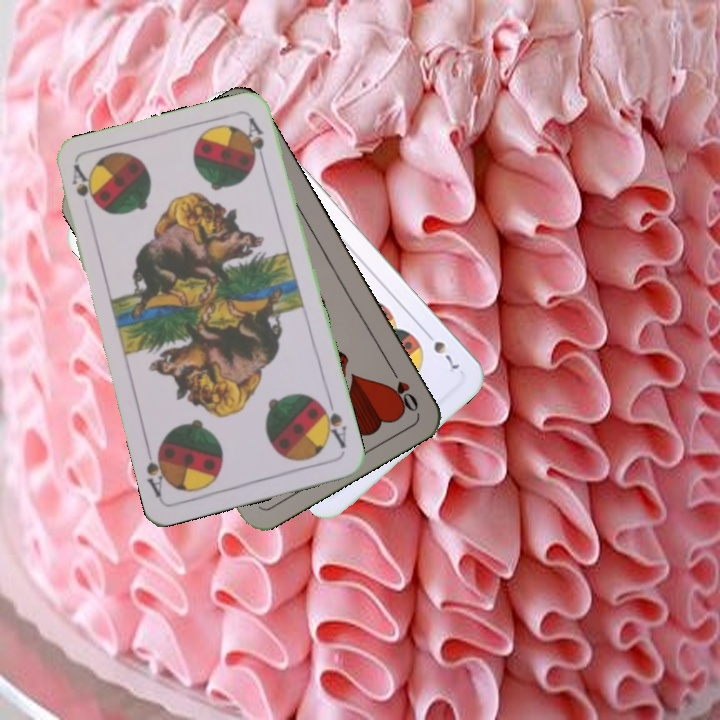HO: (385, 361, 421, 415)
S7: (420, 326, 462, 373)
SA: (315, 395, 349, 451), (67, 161, 100, 210)
